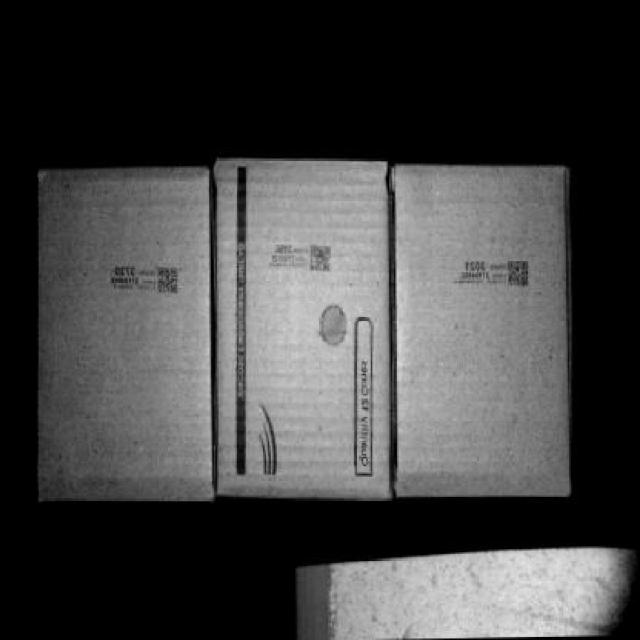cardboxes: (390, 168, 576, 492), (36, 166, 215, 499), (212, 160, 388, 495)
